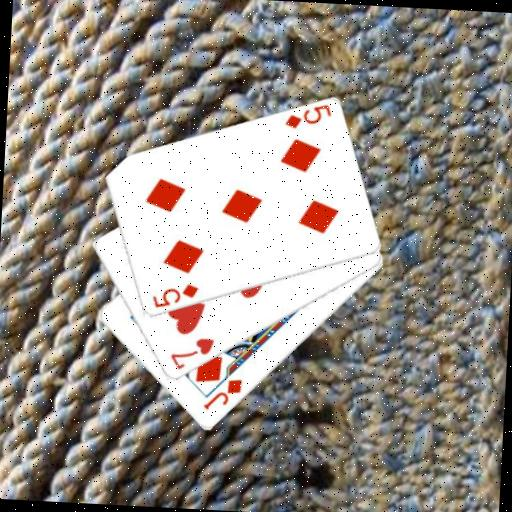5D: (149, 279, 201, 312), (281, 100, 333, 133)
7H: (167, 333, 217, 373)
JD: (200, 374, 244, 414)
